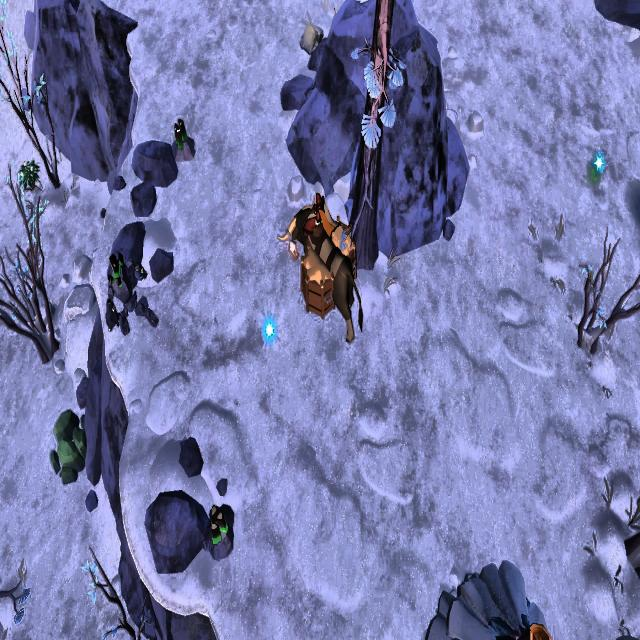fiber_t3: (15, 154, 40, 194)
ore_t3: (206, 499, 228, 546), (171, 116, 187, 150)
rock_t3: (43, 406, 91, 483)
